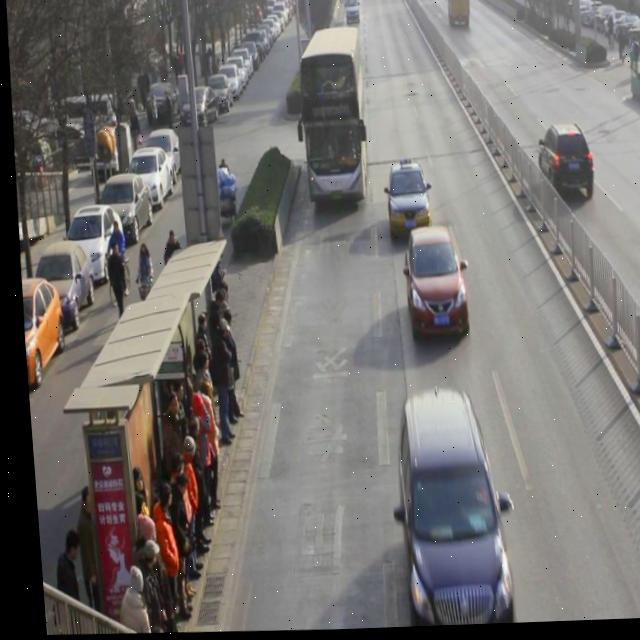car: (382, 389, 508, 630), (398, 228, 467, 343), (533, 126, 593, 206), (381, 165, 430, 244)
van: (293, 29, 367, 204)
